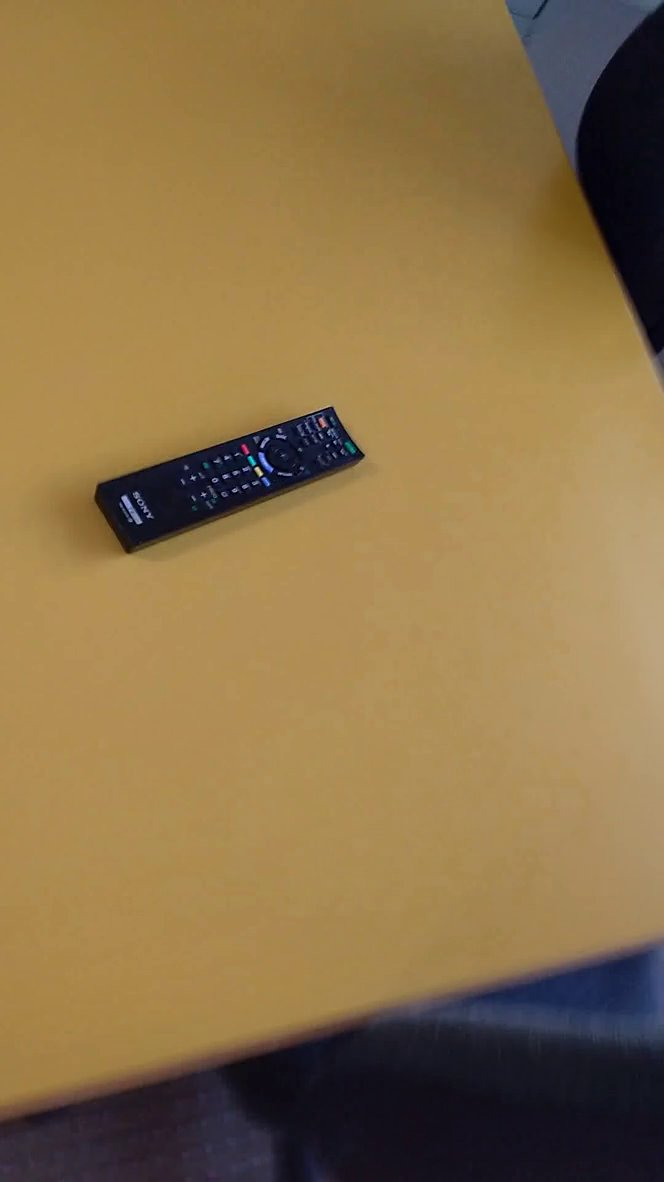remote: (84, 394, 386, 566)
